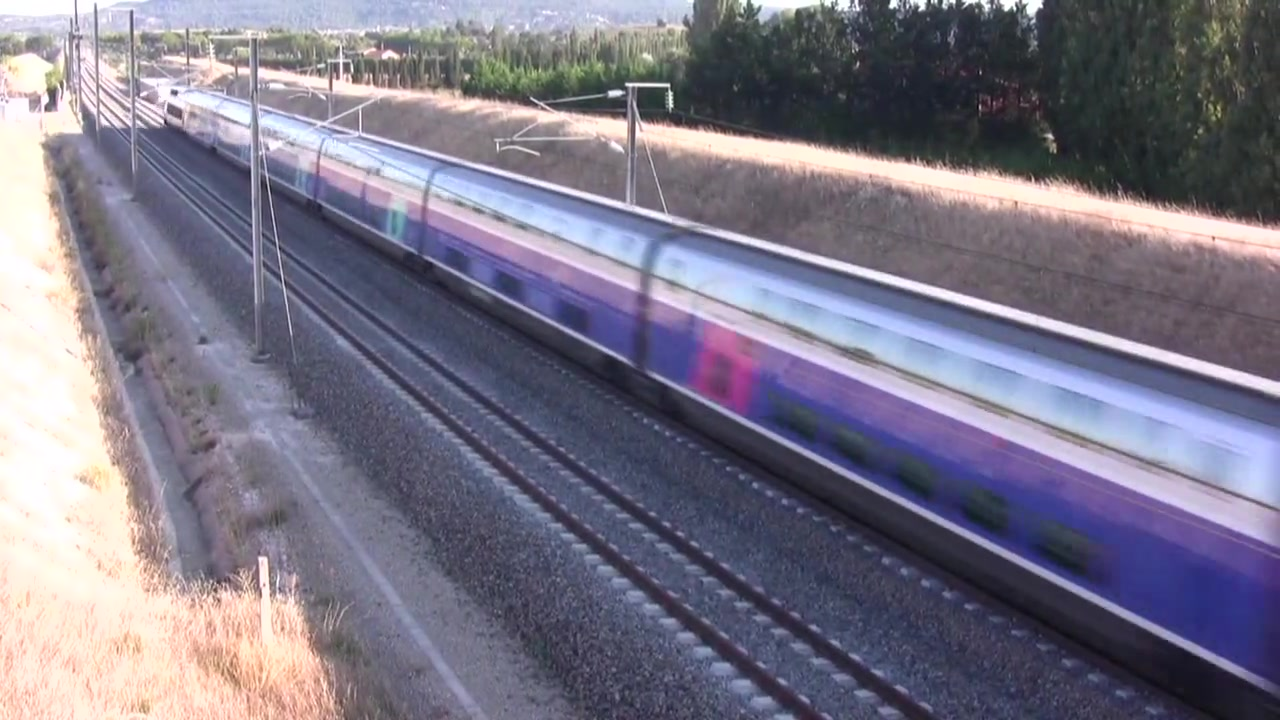train: (157, 84, 1280, 720)
